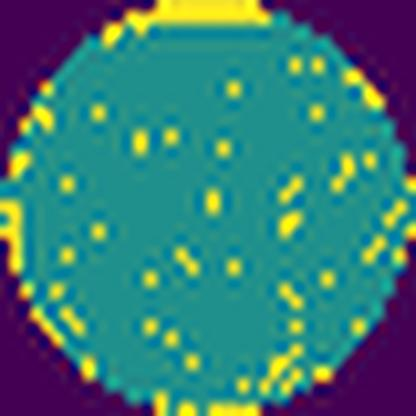Edge-Loc: (113, 0, 278, 27)
